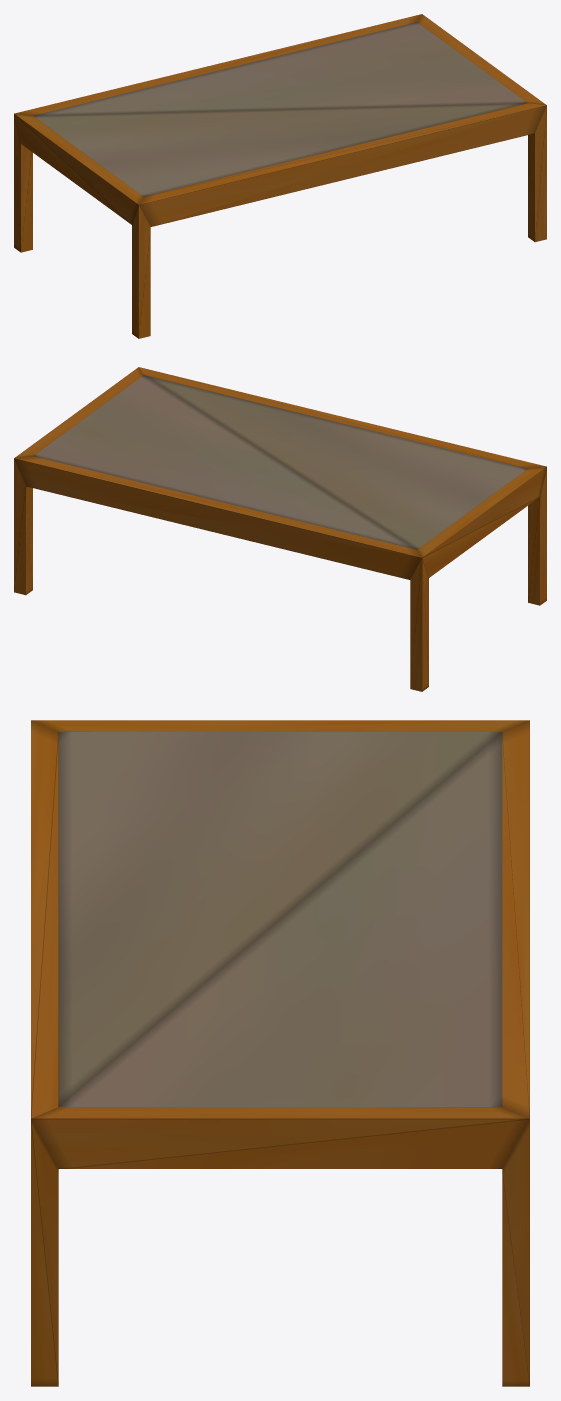
3 views of the same model, one above another, from view 1: azimuth 30°, elevation 25°; view 2: azimuth 150°, elevation 25°; view 3: azimuth 270°, elevation 25° (orthographic). The views are drawn at different scales.
Parts seen in each view (by area): view 1: world; view 2: world; view 3: world.
Part boxes in pixels (bbox=[...]): world: bbox=[14, 14, 546, 338]; world: bbox=[14, 367, 546, 691]; world: bbox=[31, 720, 529, 1386].
Size of the model in its own units: 1.7 by 0.5344 by 0.9018.
1 material, 1 textured.
